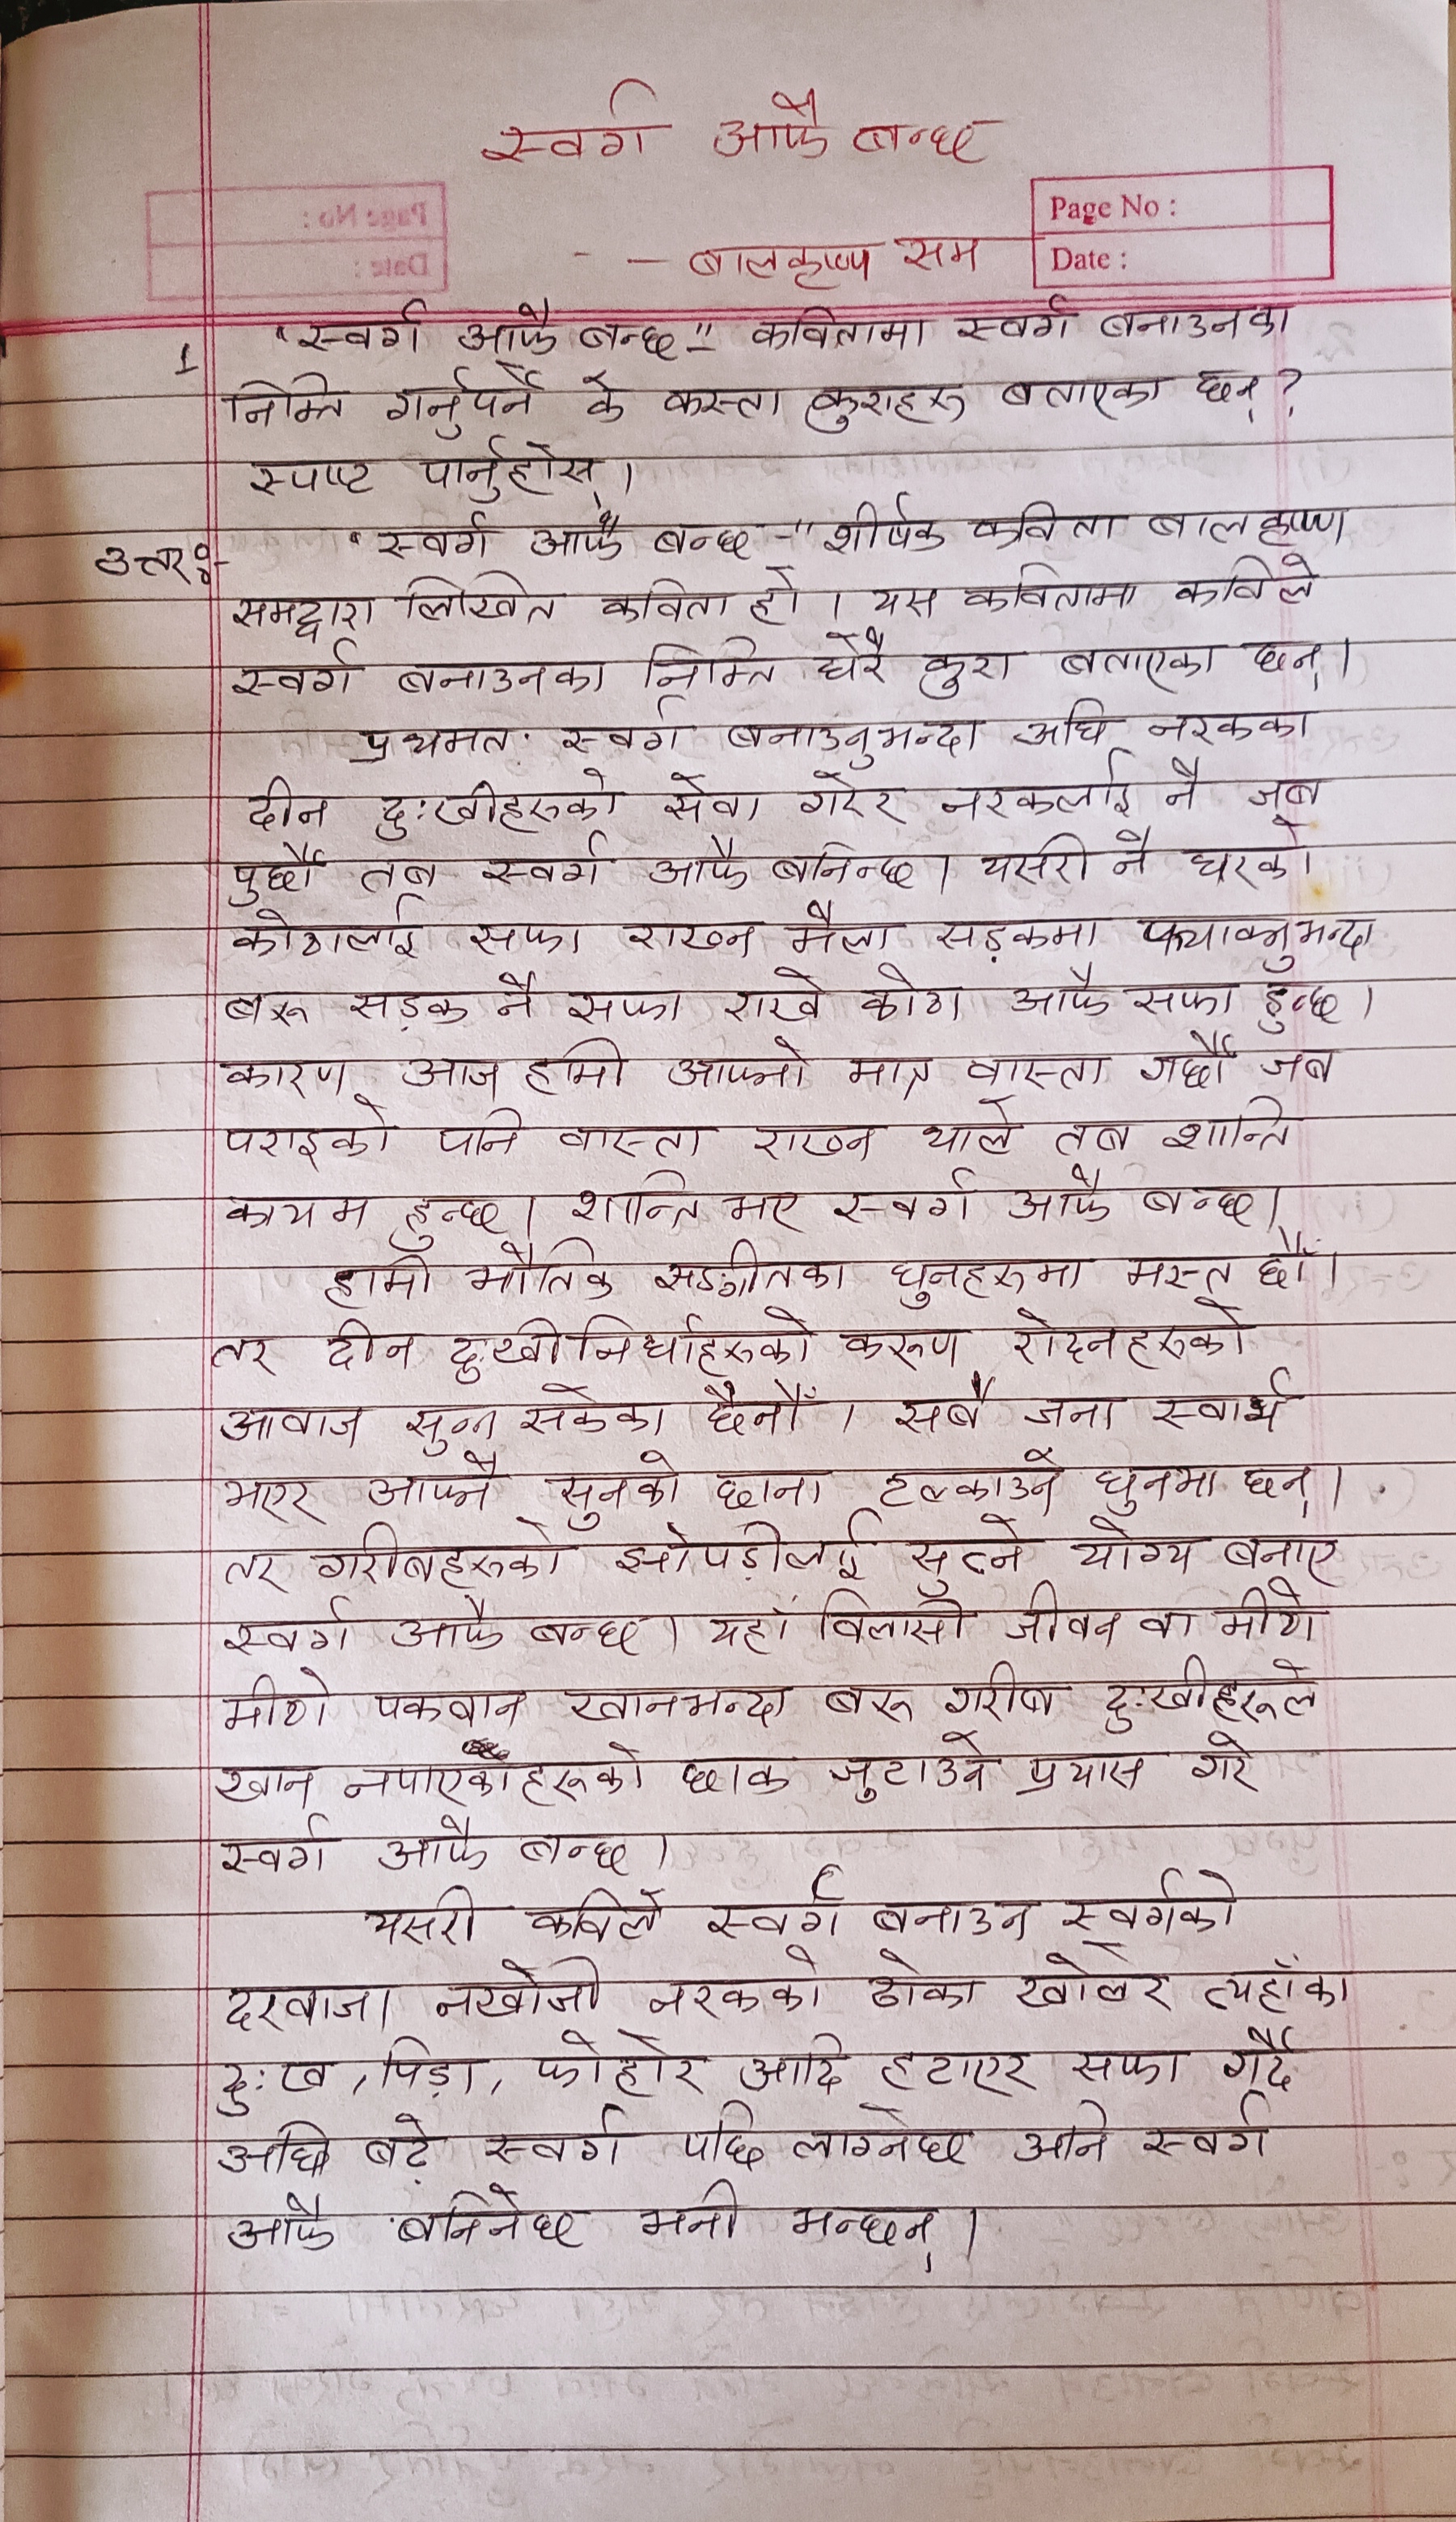text: (442, 1307, 820, 1381), (615, 1508, 879, 1584), (314, 1518, 572, 1595), (473, 73, 673, 170), (338, 1742, 650, 1803), (1005, 1295, 1251, 1369), (376, 763, 629, 834), (1102, 1652, 1323, 1733), (1130, 910, 1383, 972), (414, 433, 610, 511), (529, 2023, 718, 2097), (390, 2182, 598, 2250), (719, 718, 986, 770), (874, 1250, 1099, 1310), (867, 1447, 1068, 1515), (647, 1943, 827, 2018), (1056, 1865, 1245, 1936), (827, 1730, 1004, 1804), (381, 361, 546, 440), (224, 1101, 404, 1173), (790, 2101, 979, 2170), (655, 1232, 851, 1298), (229, 896, 430, 960), (785, 2198, 945, 2278), (1012, 1938, 1180, 2012), (1144, 1364, 1309, 1439), (941, 759, 1137, 822), (678, 234, 884, 293), (387, 569, 567, 634), (705, 1858, 849, 1940), (536, 1451, 685, 1529), (556, 1683, 796, 1732), (435, 1955, 607, 2021), (1179, 811, 1319, 891), (484, 2103, 636, 2175), (515, 1376, 676, 1444), (709, 87, 837, 170), (217, 1981, 397, 2040), (901, 1513, 1031, 1595), (801, 380, 974, 440), (1141, 2090, 1281, 2165), (1144, 501, 1359, 549), (463, 1236, 617, 1303), (995, 364, 1177, 421), (742, 302, 939, 354), (392, 655, 614, 700), (364, 1444, 508, 1513), (926, 913, 1111, 967), (959, 496, 1132, 553), (288, 289, 433, 357), (960, 558, 1142, 612), (1056, 638, 1225, 695), (1156, 1095, 1303, 1161), (830, 1168, 981, 1232), (1201, 1955, 1364, 2014), (1172, 555, 1329, 615), (562, 1167, 705, 1232), (1064, 1515, 1215, 1577), (813, 1591, 971, 1650), (355, 1882, 494, 1948), (210, 371, 359, 432), (664, 1038, 813, 1099), (556, 695, 693, 761), (1101, 296, 1298, 341), (477, 830, 619, 893), (827, 492, 948, 565), (733, 2028, 855, 2101), (211, 1813, 345, 1879), (229, 634, 366, 699), (1141, 702, 1321, 751), (768, 837, 924, 893), (867, 1895, 1043, 1943), (345, 719, 515, 770), (875, 2047, 1045, 2097), (224, 586, 381, 640), (210, 1404, 373, 1456), (941, 1657, 1073, 1721), (225, 1595, 355, 1659), (846, 962, 972, 1028), (518, 1888, 673, 1941), (367, 1681, 532, 1732), (640, 636, 783, 693), (549, 1121, 723, 1168), (867, 1950, 990, 2016), (215, 1666, 335, 1733), (1005, 1577, 1118, 1648), (693, 1375, 822, 1437), (849, 114, 1011, 163), (213, 2193, 338, 2255), (1213, 1576, 1328, 1643), (237, 451, 381, 504), (959, 1047, 1123, 1094), (388, 1187, 508, 1251), (674, 2099, 775, 2175), (310, 1253, 444, 1310), (206, 1050, 357, 1101), (978, 830, 1099, 893), (631, 2179, 752, 2241), (782, 900, 910, 959), (1012, 1749, 1172, 1796), (998, 962, 1115, 1026), (217, 837, 329, 903), (749, 1113, 886, 1167), (388, 1595, 506, 1657), (373, 511, 501, 569), (210, 2057, 338, 2115), (315, 1314, 423, 1381), (617, 913, 766, 962), (595, 575, 738, 626), (922, 1095, 1026, 1165), (213, 1191, 378, 1234), (835, 1324, 972, 1376), (520, 1035, 631, 1099), (218, 2120, 338, 2179), (575, 303, 688, 366), (373, 2035, 485, 2097), (1012, 2099, 1116, 2167), (376, 1815, 494, 1874), (527, 503, 631, 569), (1135, 1028, 1239, 1094), (458, 300, 567, 362), (912, 641, 1021, 704), (889, 220, 1007, 277), (792, 768, 910, 825), (648, 834, 759, 894), (1011, 1167, 1115, 1231), (1089, 1463, 1225, 1511), (217, 1470, 336, 1525), (430, 1102, 530, 1168), (957, 291, 1080, 345), (657, 768, 764, 829), (1012, 692, 1116, 754), (85, 536, 194, 595), (343, 986, 480, 1033), (515, 1827, 638, 1879), (650, 381, 790, 426), (1213, 2023, 1302, 2094), (887, 1380, 1000, 1435), (1255, 974, 1352, 1038), (234, 775, 336, 835), (709, 1461, 832, 1511), (719, 967, 830, 1023), (562, 981, 688, 1030), (1116, 1245, 1239, 1293), (1137, 1180, 1258, 1229), (1222, 1531, 1352, 1576), (364, 2109, 451, 2177), (1120, 978, 1239, 1026), (652, 515, 766, 565), (806, 626, 894, 690), (835, 1050, 939, 1104), (399, 1056, 510, 1106), (458, 919, 591, 960), (1187, 1726, 1267, 1796), (678, 1754, 796, 1801), (1068, 2045, 1193, 2089), (400, 1404, 499, 1456), (523, 1619, 652, 1659), (210, 1763, 322, 1808), (704, 1600, 792, 1657), (1193, 357, 1265, 426), (1239, 1456, 1314, 1524), (1251, 1037, 1345, 1090), (1239, 631, 1326, 688), (1016, 1394, 1130, 1437), (569, 369, 638, 439), (217, 986, 317, 1033), (816, 1683, 917, 1730), (1258, 1217, 1317, 1295), (1049, 1113, 1137, 1163), (217, 1544, 295, 1600), (747, 563, 808, 633), (201, 1333, 286, 1381), (716, 1191, 803, 1238), (345, 855, 445, 894), (1241, 773, 1333, 811), (1104, 823, 1163, 881), (487, 964, 546, 1021), (861, 584, 948, 622), (1160, 751, 1208, 815), (1137, 1609, 1201, 1645)
